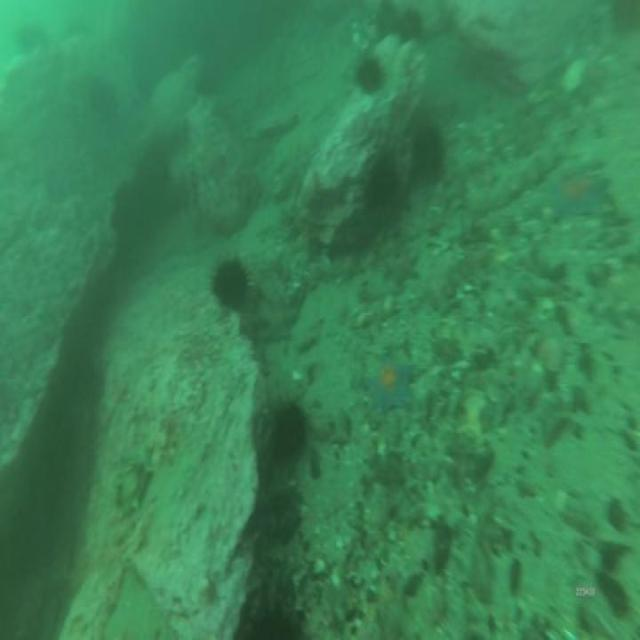echinus: (272, 402, 307, 462), (212, 259, 248, 307), (415, 123, 443, 180), (368, 164, 399, 207), (357, 57, 383, 93)
scallop: (564, 58, 584, 92), (311, 554, 325, 574), (333, 574, 343, 591)
starfish: (554, 164, 604, 218), (372, 352, 416, 408)
